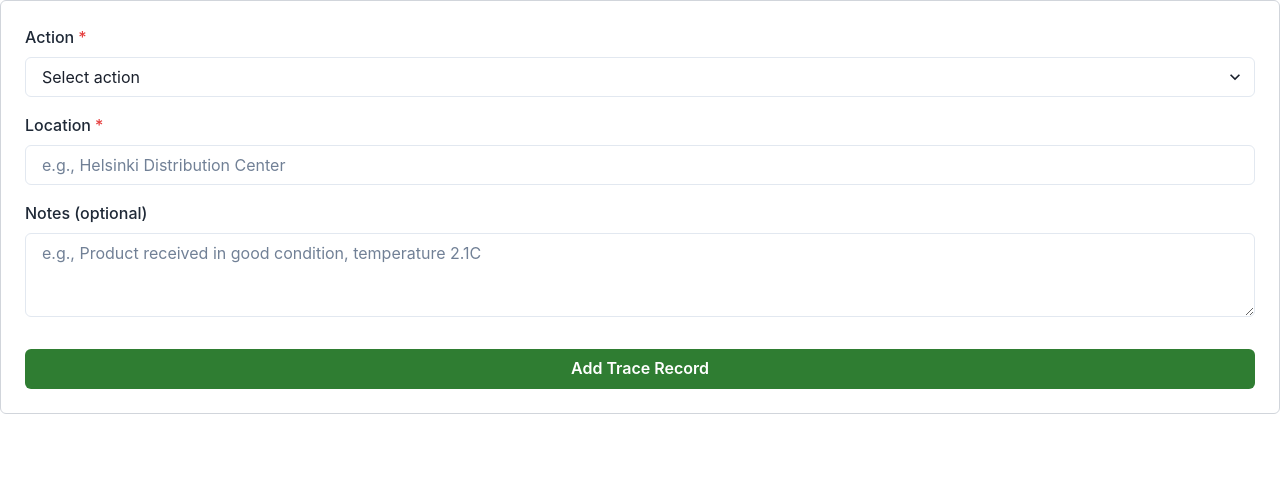
Test case: TraceRecordForm › Submission › should handle network errors
The image size is (1280, 495).
// Fill form
Step 1. Select "Received" in the dropdown → [640, 77], box [25,57,1255,97]
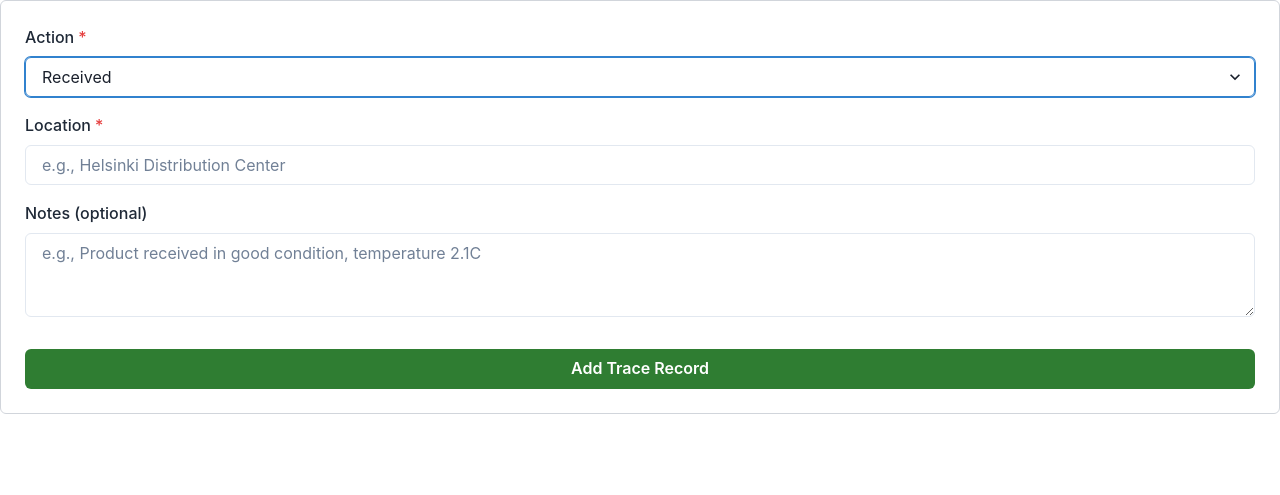
Step 2. Type "Test" into the field with placeholder "e.g., Helsinki Distribution Center" → [640, 165], box [25,145,1255,185]
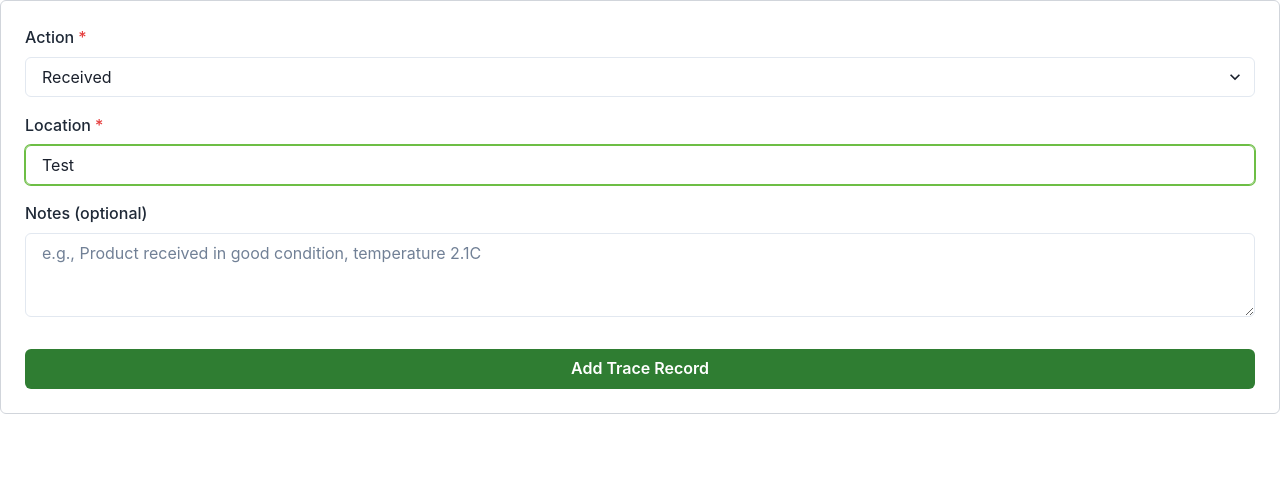
Step 3. Click the button "Add Trace Record" → [640, 369], box [25,349,1255,389]
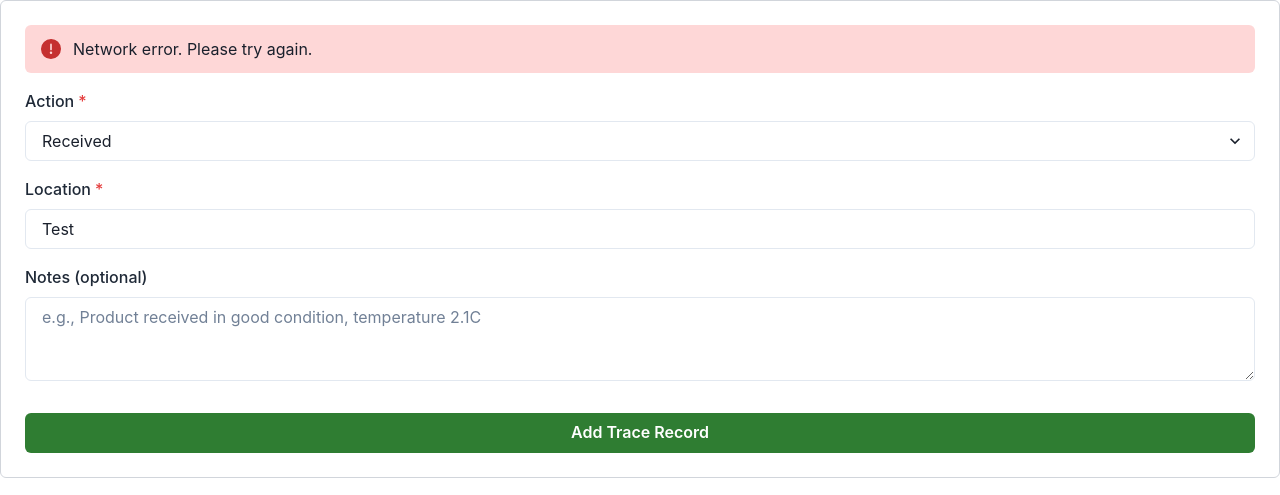
Check: the text "Network error. Please try again." is shown, box [25,25,1255,73]
